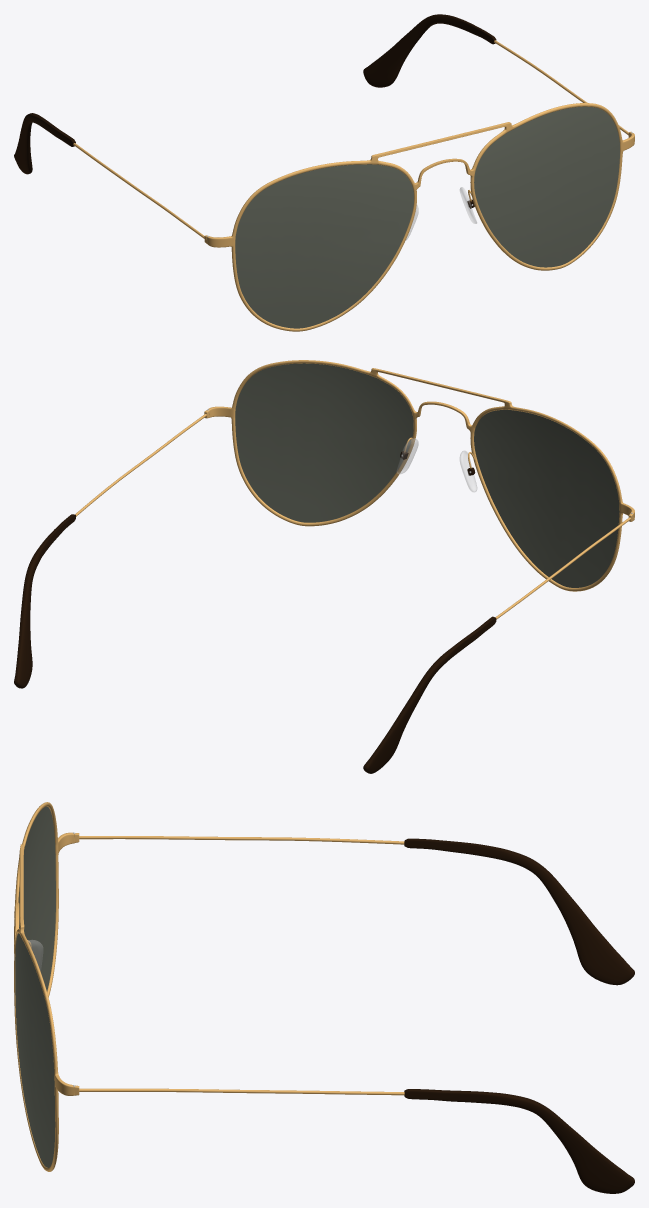
The model's file is sol-aviador-dorado.glb.
3 views of the same model, one above another, from view 1: azimuth 30°, elevation 25°; view 2: azimuth 150°, elevation 25°; view 3: azimuth 270°, elevation 25° (orthographic). The views are drawn at different scales.
Parts seen in each view (by area): view 1: Aviators_Glass tinted_0, Aviators_Gold metallic_0, Aviators_Black gloss_0; view 2: Aviators_Glass tinted_0, Aviators_Gold metallic_0, Aviators_Black gloss_0, Aviators_Transparent_0; view 3: Aviators_Glass tinted_0, Aviators_Black gloss_0, Aviators_Gold metallic_0.
Boxes of the visible parts, x1,y1,x2,y2 form: Aviators_Glass tinted_0: (235,106,619,328); Aviators_Gold metallic_0: (73,40,634,331); Aviators_Black gloss_0: (14,14,496,208); Aviators_Glass tinted_0: (235,363,619,587); Aviators_Gold metallic_0: (75,360,634,619); Aviators_Black gloss_0: (14,451,496,773); Aviators_Transparent_0: (397,438,476,491); Aviators_Glass tinted_0: (15,806,55,1167); Aviators_Black gloss_0: (404,838,634,1193); Aviators_Gold metallic_0: (14,802,404,1171).
Size of the model in its own units: 0.142 by 0.0531 by 0.1464.
